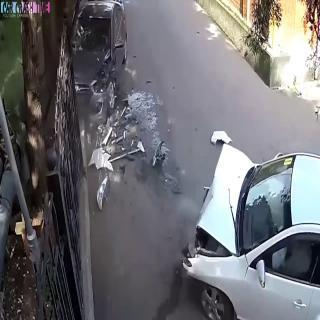Vehicle-Crash_Detected: (64, 5, 305, 302)
